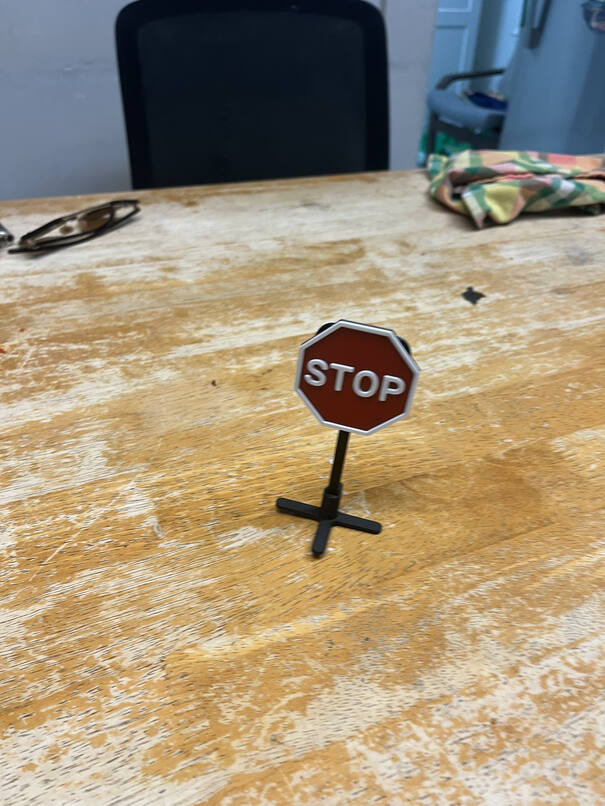sign_stop: (291, 313, 421, 434)
